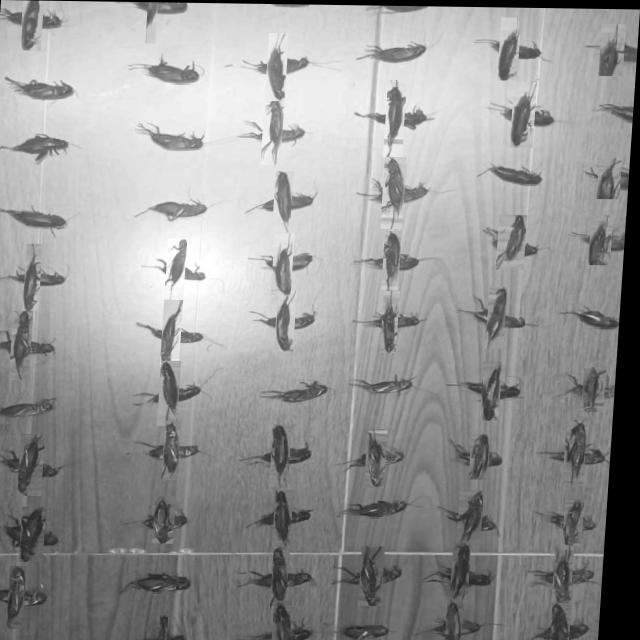egg: (2, 134, 70, 163), (383, 156, 407, 228), (140, 123, 204, 150), (24, 433, 50, 496), (498, 214, 528, 268), (387, 79, 407, 156), (512, 80, 535, 146), (266, 380, 335, 402), (132, 61, 201, 83), (6, 78, 75, 100), (164, 298, 186, 366), (570, 419, 593, 484), (262, 97, 284, 164), (14, 311, 35, 380), (464, 490, 490, 544), (498, 16, 520, 79), (0, 209, 69, 229), (26, 507, 51, 562), (168, 238, 190, 300), (367, 544, 389, 605), (457, 542, 477, 609), (360, 42, 426, 62), (490, 285, 511, 347), (599, 22, 624, 74), (267, 32, 286, 100), (275, 232, 295, 295), (165, 361, 184, 425), (134, 573, 198, 592), (486, 163, 543, 184), (277, 424, 296, 487), (145, 201, 210, 219), (277, 547, 295, 612), (560, 543, 578, 608), (591, 213, 614, 263), (486, 359, 505, 419), (26, 244, 43, 311), (15, 566, 33, 629), (348, 500, 414, 517), (279, 289, 297, 351), (276, 171, 294, 232), (280, 489, 299, 546), (385, 289, 402, 352), (373, 428, 391, 487), (586, 365, 609, 410), (160, 495, 181, 543), (386, 231, 403, 290), (0, 399, 59, 416), (21, 0, 41, 50), (168, 421, 185, 479), (569, 308, 623, 326), (598, 155, 621, 197), (569, 497, 589, 545), (434, 619, 490, 635), (358, 378, 417, 393), (474, 434, 494, 478), (346, 624, 397, 640), (558, 602, 578, 640), (281, 601, 299, 640), (453, 598, 469, 640), (600, 103, 635, 119), (145, 2, 157, 43), (370, 4, 426, 12), (167, 614, 176, 640), (270, 3, 307, 6)
